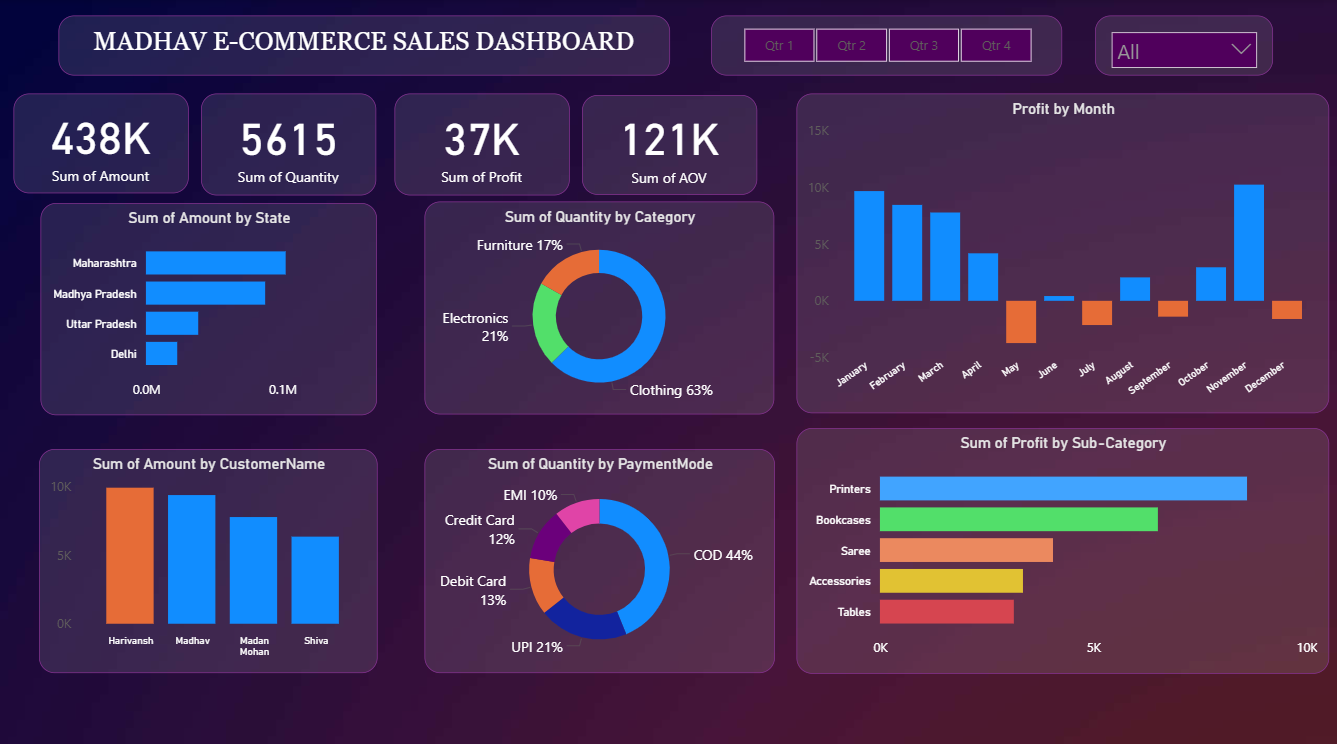

The dashboard page shown, as its layout file describes it:
{"tool":"powerbi","page":{"name":"Page 1","canvas":[1280,720],"ordinal":0},"visuals":[{"type":"columnChart","title":"Profit by Month","fields":{"Category":["Orders.Order Date.Variation.Date Hierarchy.Month"],"Y":["Sum(Details.Profit)"]},"box":[760.3,90.7,509,305.4],"z":0},{"type":"barChart","fields":{"Category":["Details.Sub-Category"],"Y":["Sum(Details.Profit)"]},"box":[760.2,409.8,508.4,234.6],"z":1000},{"type":"donutChart","fields":{"Category":["Details.Category"],"Y":["Sum(Details.Quantity)"]},"box":[405.6,194.1,334,203.6],"z":2000},{"type":"donutChart","fields":{"Y":["Sum(Details.Quantity)"],"Category":["Details.PaymentMode"]},"box":[405.1,430.1,334.7,214.3],"z":3000},{"type":"card","fields":{"Values":["Sum(Details.Amount)"]},"box":[12.7,90.7,167,95.4],"z":4000},{"type":"card","fields":{"Values":["Sum(Details.Quantity)"]},"box":[192.5,90.7,167,97],"z":5000},{"type":"card","fields":{"Values":["Sum(Details.Profit)"]},"box":[377,90.7,167,97],"z":6000},{"type":"card","fields":{"Values":["Sum(Details.AOV)"]},"box":[555.1,92.3,167,95.4],"z":7000},{"type":"barChart","fields":{"Category":["Orders.State"],"Y":["Sum(Details.Amount)"]},"box":[38.9,194.7,321.3,202.5],"z":8000},{"type":"columnChart","fields":{"Category":["Orders.CustomerName"],"Y":["Sum(Details.Amount)"]},"box":[37,430.3,323.2,214.2],"z":9000},{"type":"textbox","box":[55.7,15.9,583.8,57.3],"z":10000},{"type":"slicer","fields":{"Values":["Orders.Order Date.Variation.Date Hierarchy.Quarter"]},"box":[679.2,15.9,335.6,57.3],"z":11000},{"type":"slicer","fields":{"Values":["Orders.State"]},"box":[1045,15.9,170.2,57.3],"z":12000}]}

Visuals, with their boxes in screenshot pixels (x1, y1, x2, y2), scaled from the page's 1280x720 canvas onto the 1337x744 screenshot:
"Profit by Month" columnChart: <box>794,94,1326,409</box>
barChart - Details.Sub-Category x Sum(Details.Profit): <box>794,423,1325,666</box>
donutChart - Details.Category x Sum(Details.Quantity): <box>424,201,773,411</box>
donutChart - Sum(Details.Quantity) x Details.PaymentMode: <box>423,444,773,666</box>
card - Sum(Details.Amount): <box>13,94,188,192</box>
card - Sum(Details.Quantity): <box>201,94,376,194</box>
card - Sum(Details.Profit): <box>394,94,568,194</box>
card - Sum(Details.AOV): <box>580,95,754,194</box>
barChart - Orders.State x Sum(Details.Amount): <box>41,201,376,410</box>
columnChart - Orders.CustomerName x Sum(Details.Amount): <box>39,445,376,666</box>
textbox: <box>58,16,668,76</box>
slicer - Orders.Order Date.Variation.Date Hierarchy.Quarter: <box>709,16,1060,76</box>
slicer - Orders.State: <box>1092,16,1269,76</box>
